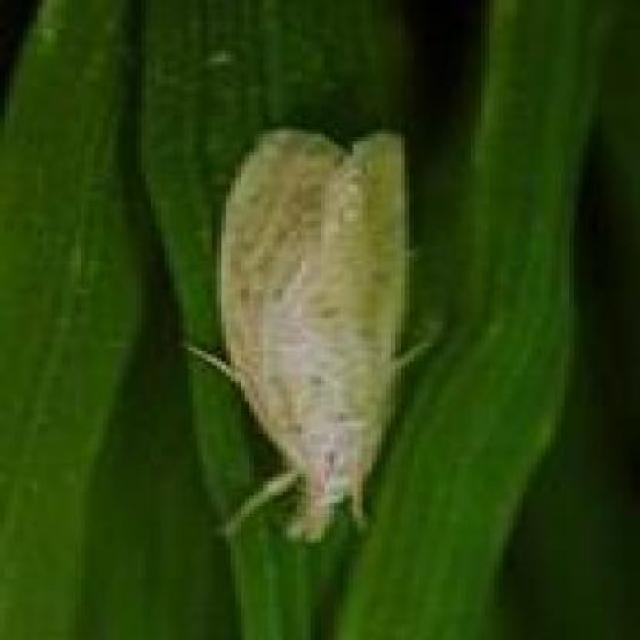stem-borer: (178, 126, 438, 546)
